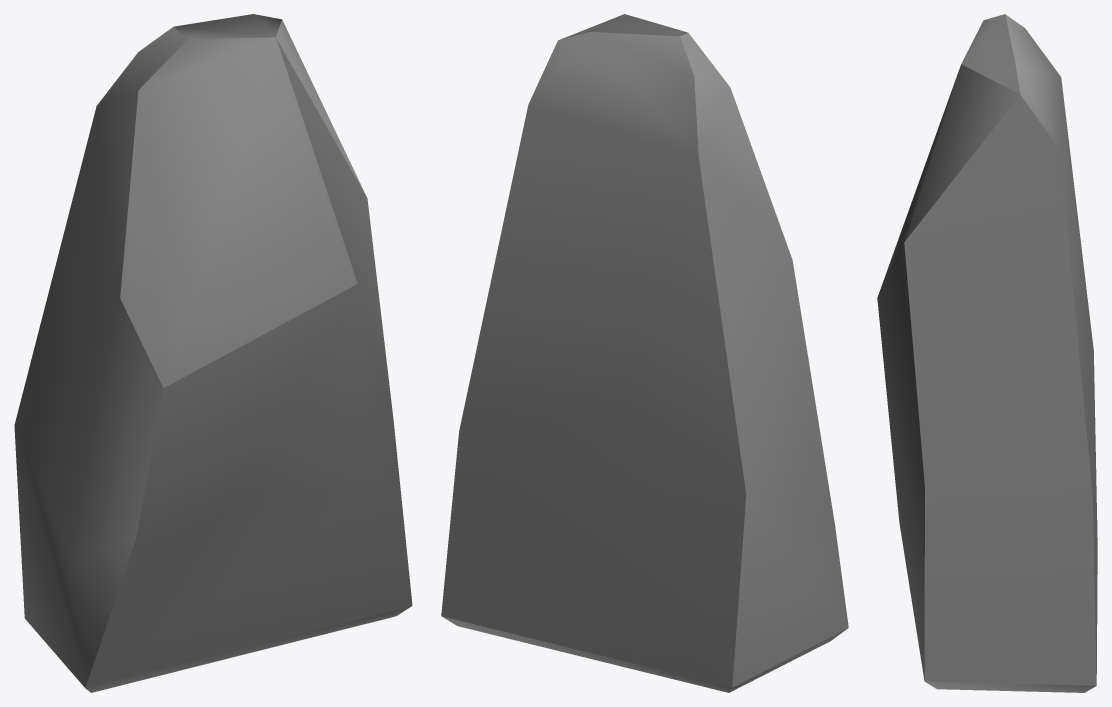
File: rock.fbx
The picture shows the model from 3 angles, left to right: view 1: azimuth 30°, elevation 25°; view 2: azimuth 150°, elevation 25°; view 3: azimuth 270°, elevation 25°; orthographic projection. The views are drawn at different scales.
Visible parts, largest first — view 1: rock; view 2: rock; view 3: rock.
Part boxes in pixels (<box>): rock: <box>14,14,412,692</box>; rock: <box>441,14,848,692</box>; rock: <box>877,14,1097,692</box>.
Size of the model in its own units: 54.36 by 97.58 by 32.91.
